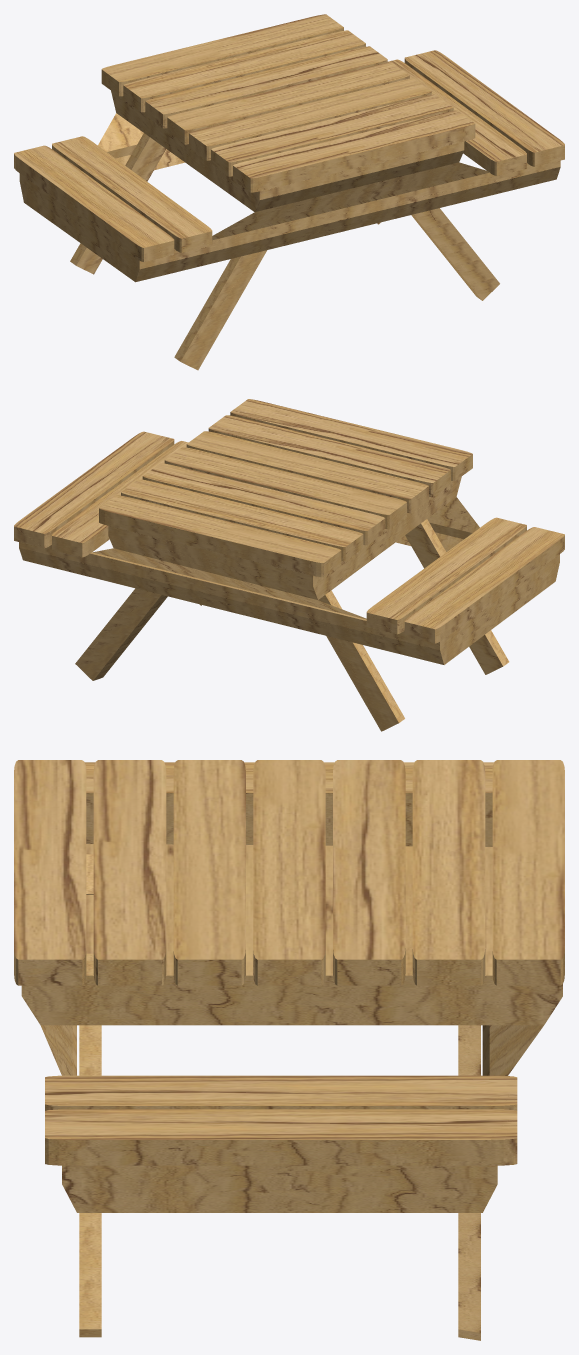
File: PicnicTable.obj
The picture shows the model from 3 angles, top to bottom: view 1: azimuth 30°, elevation 25°; view 2: azimuth 150°, elevation 25°; view 3: azimuth 270°, elevation 25°; orthographic projection. The views are drawn at different scales.
Visible parts, largest first — view 1: Cube_Cube.001; view 2: Cube_Cube.001; view 3: Cube_Cube.001.
Boxes of the visible parts, bbox=[...] form: Cube_Cube.001: bbox=[14, 14, 564, 370]; Cube_Cube.001: bbox=[14, 399, 564, 731]; Cube_Cube.001: bbox=[14, 760, 564, 1340].
Bounding box in the file's own units: 1.82 × 0.7991 × 1.12.
Materials: 1 (1 with a texture image).
